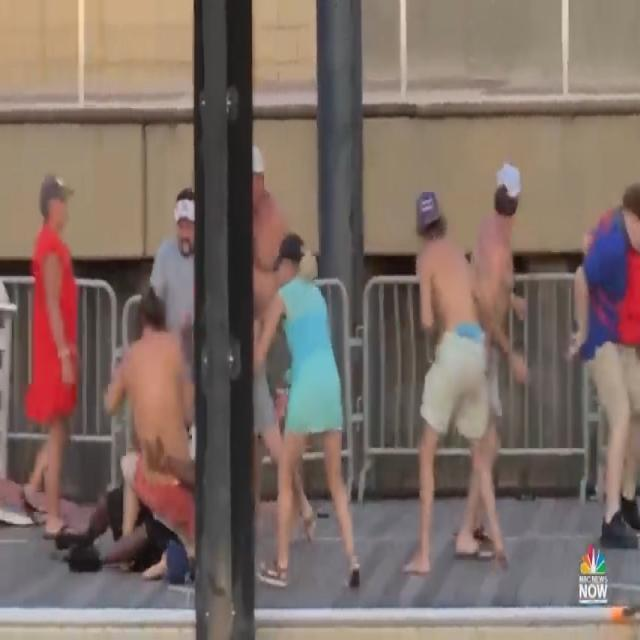fight: (57, 124, 372, 600), (567, 165, 640, 554)
non-fight: (399, 138, 526, 584)
